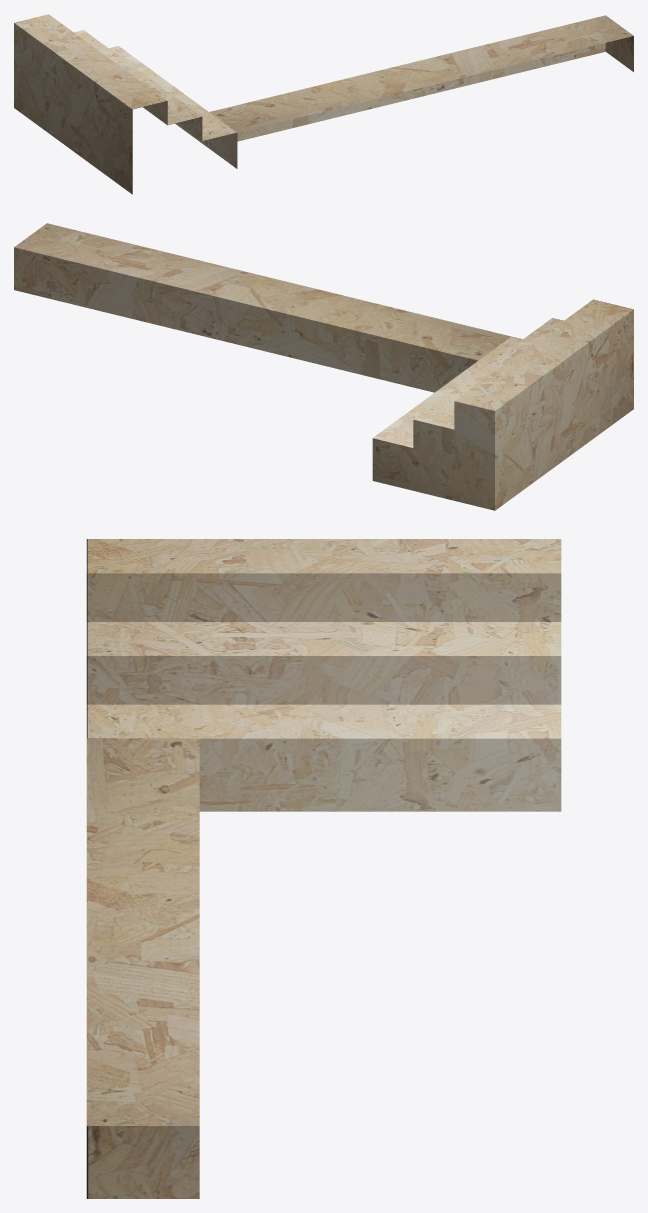
File: Display.fbx
3 views of the same model, one above another, from view 1: azimuth 30°, elevation 25°; view 2: azimuth 150°, elevation 25°; view 3: azimuth 270°, elevation 25° (orthographic). The views are drawn at different scales.
Parts seen in each view (by area): view 1: StairDisplay, LongDisplay; view 2: LongDisplay, StairDisplay; view 3: StairDisplay, LongDisplay.
Part boxes in pixels (<box>): StairDisplay: <box>14,14,237,194</box>; LongDisplay: <box>208,15,633,148</box>; LongDisplay: <box>14,223,511,392</box>; StairDisplay: <box>372,299,633,510</box>; StairDisplay: <box>86,539,561,811</box>; LongDisplay: <box>86,738,199,1198</box>.
Bounding box in the file's own units: 4312 × 700 × 1767.
